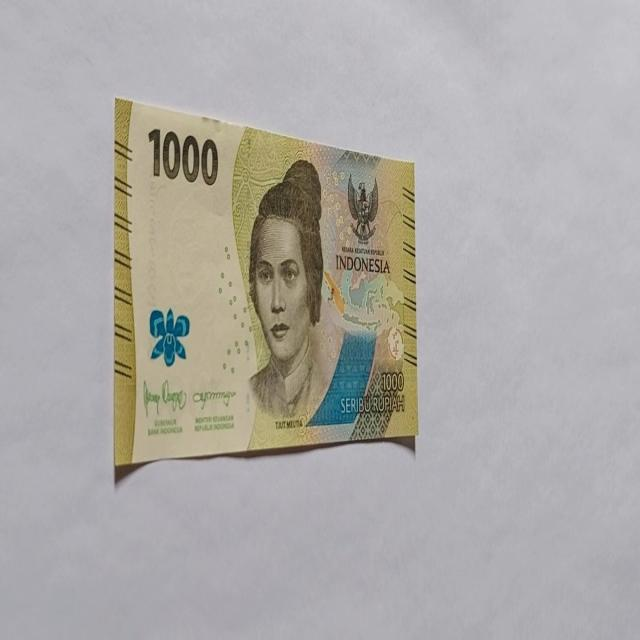seribu rupiah kertas: (113, 96, 417, 471)
